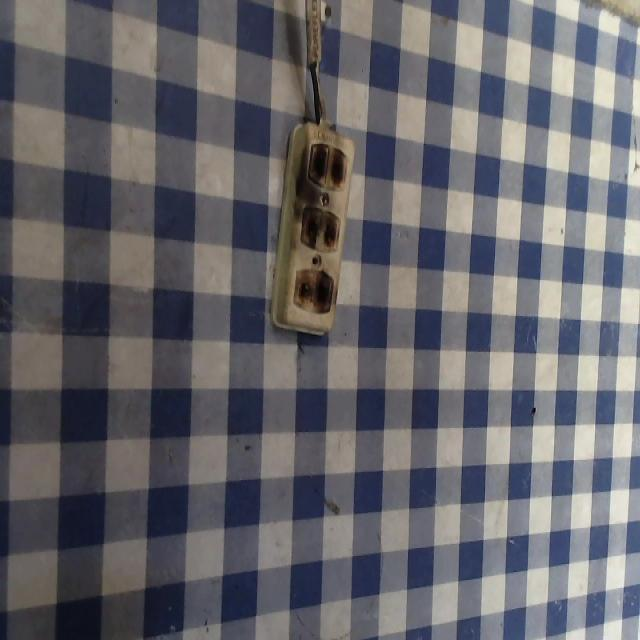-: (286, 264, 338, 323), (294, 202, 347, 258), (299, 137, 347, 196)
